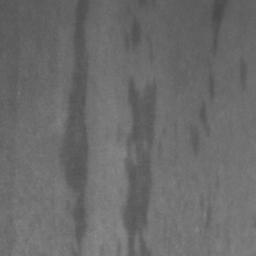Inclusion: (59, 0, 91, 242), (125, 76, 160, 241)
